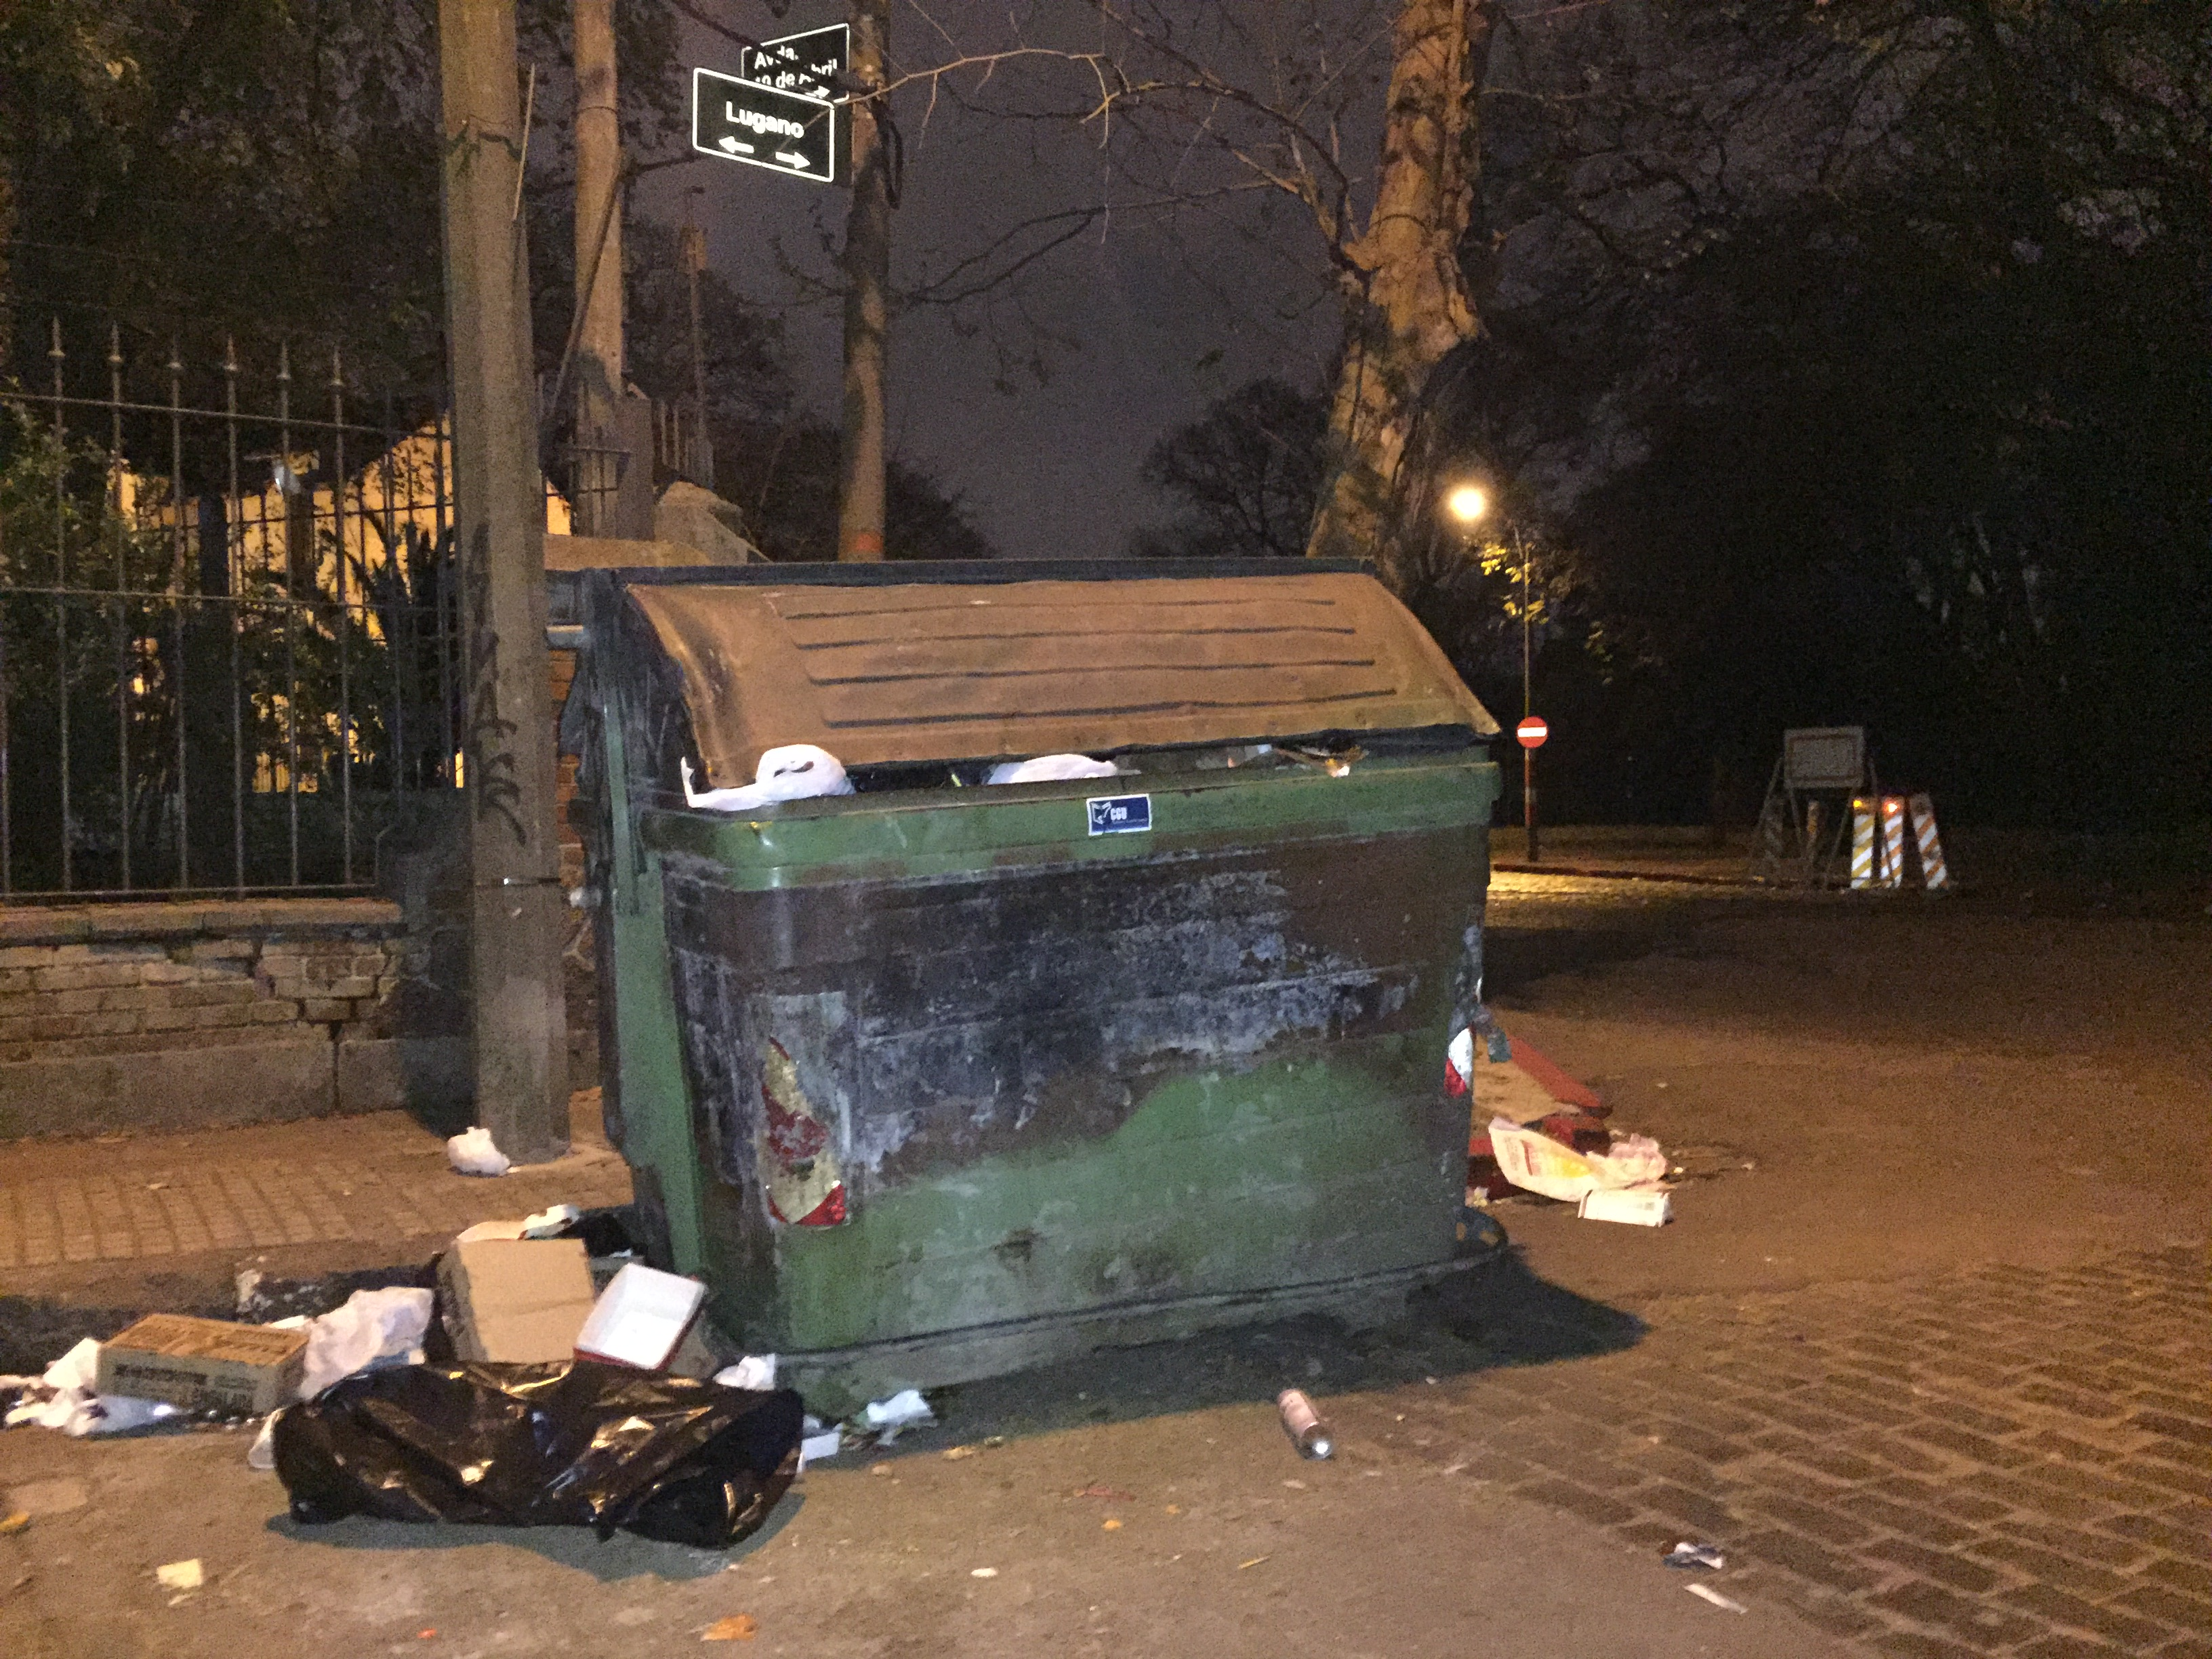container: (547, 552, 1515, 1375)
